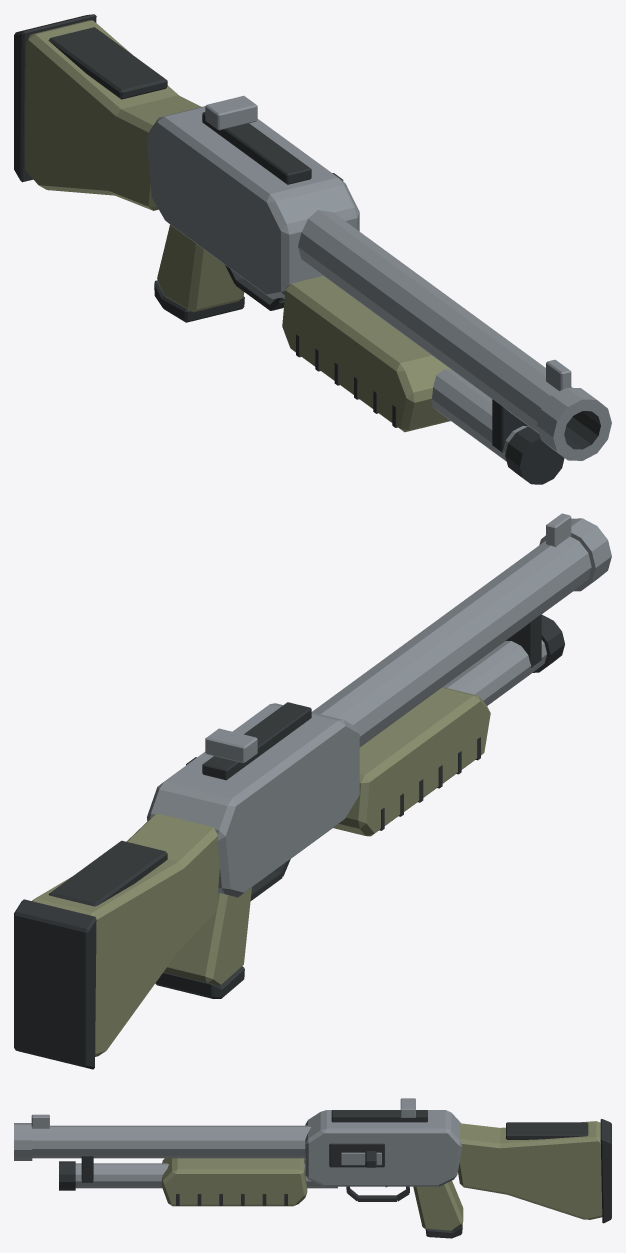
File: soldier-shotgun.glb
The picture shows the model from 3 angles, top to bottom: view 1: azimuth 30°, elevation 25°; view 2: azimuth 150°, elevation 25°; view 3: azimuth 270°, elevation 25°; orthographic projection. The views are drawn at different scales.
Parts seen in each view (by area): view 1: SoldierShotgun; view 2: SoldierShotgun; view 3: SoldierShotgun.
Part boxes in pixels (x1,y1,x2,y2): SoldierShotgun: (14,14,611,484); SoldierShotgun: (14,513,611,1069); SoldierShotgun: (14,1098,611,1238).
Size of the model in its own units: 0.088 by 0.162 by 0.69.
